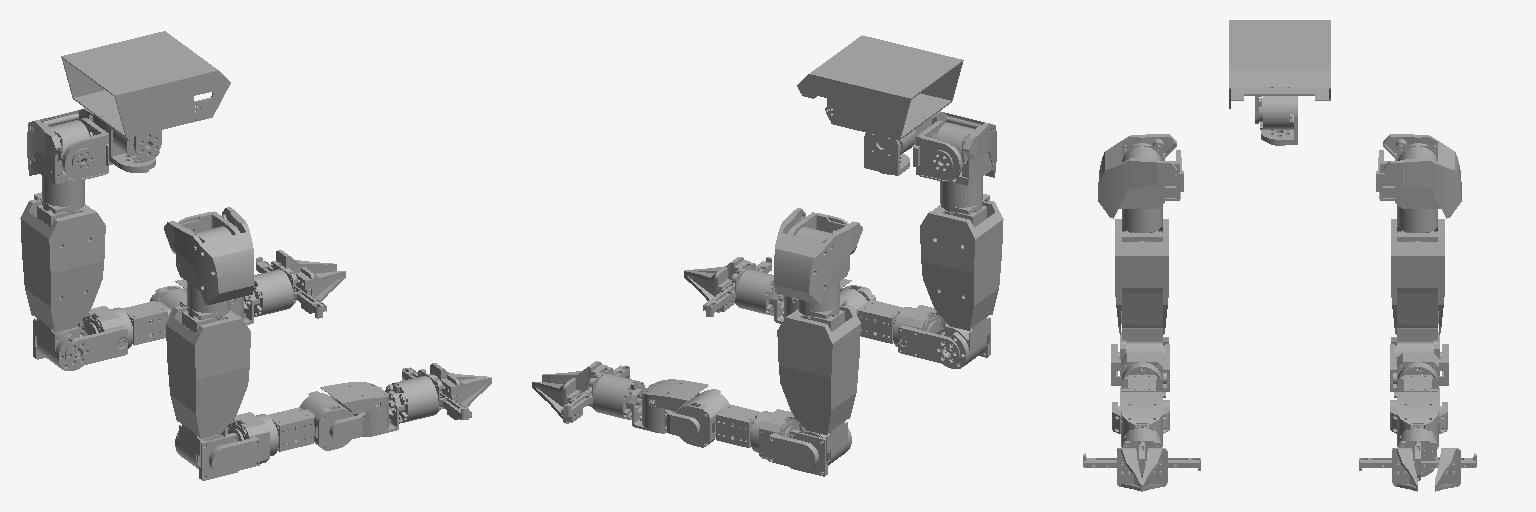
--- Facts derived from the render (not from the file) ---
The picture shows the robot from 3 angles, left to right: view 1: azimuth 30°, elevation 25°; view 2: azimuth 150°, elevation 25°; view 3: azimuth 270°, elevation 25°; orthographic projection.
Robot: 00-X7aaz — 29 links, 28 joints (17 revolute, 7 prismatic, 4 fixed); root link base_link; default pose: joints at zero except 1 at the middle of their limits (catch_joint_l_2 = 0.0254).
Visible links, largest first — view 1: head_link2_1, arm_r_link3_1, arm_l_link3_1, arm_r_link2_1, arm_l_link2_1, arm_r_link5_1, arm_r_link7_1, arm_r_link4_1, arm_l_link4_1, arm_r_link6_1, arm_l_link7_1, arm_l_link5_1 (+6 smaller); view 2: head_link2_1, arm_l_link3_1, arm_r_link3_1, arm_l_link2_1, arm_r_link2_1, arm_l_link5_1, arm_l_link7_1, arm_l_link4_1, arm_l_link6_1, arm_r_link4_1, arm_r_link7_1, arm_r_link1_1 (+6 smaller); view 3: head_link2_1, arm_r_link3_1, arm_l_link3_1, arm_r_link2_1, arm_l_link2_1, arm_l_link6_1, arm_r_link6_1, arm_l_link7_1, head_link1_1, arm_r_link4_1, arm_l_link4_1, arm_r_link7_1 (+8 smaller).
Link boxes in pixels (x1,y1,x2,y2): head_link2_1: (61,31,230,158); arm_r_link3_1: (166,306,250,480); arm_l_link3_1: (20,199,105,370); arm_r_link2_1: (164,207,253,319); arm_l_link2_1: (27,108,109,213); arm_r_link5_1: (268,391,353,451); arm_r_link7_1: (362,367,471,436); arm_r_link4_1: (209,412,278,474); arm_l_link4_1: (65,306,132,366); arm_r_link6_1: (320,382,388,441); arm_l_link7_1: (244,257,326,324); arm_l_link5_1: (122,286,186,345); head_link2_1: (797,35,963,140); arm_l_link3_1: (777,305,860,476); arm_r_link3_1: (920,200,1003,368); arm_l_link2_1: (774,208,862,318); arm_r_link2_1: (914,111,996,214); arm_l_link5_1: (676,389,760,447); arm_l_link7_1: (561,365,666,433); arm_l_link4_1: (750,409,818,469); arm_l_link6_1: (642,379,708,438); arm_r_link4_1: (893,305,959,364); arm_r_link7_1: (703,257,783,323); arm_r_link1_1: (913,121,962,181); head_link2_1: (1229,20,1330,123); arm_r_link3_1: (1115,219,1168,375); arm_l_link3_1: (1391,219,1444,375); arm_r_link2_1: (1098,134,1176,232); arm_l_link2_1: (1383,134,1461,232); arm_l_link6_1: (1390,392,1447,448); arm_r_link6_1: (1112,392,1169,447); arm_l_link7_1: (1359,426,1476,480); head_link1_1: (1260,96,1297,145); arm_r_link4_1: (1111,344,1169,391); arm_l_link4_1: (1390,344,1448,391); arm_r_link7_1: (1083,426,1200,477).
Size in the robot's own frame: 0.53 by 0.578 by 0.541 metres.
20 mesh visuals loaded from 25 distinct referenced files (20 binary STL); not drawn: 5 (reference not matched to a file when rendering).

The robot description file, URDF, robot "00-X7aaz":
<?xml version="1.0" ?>
<!-- =================================================================================== -->
<!-- |    This document was autogenerated by xacro from src/arx_urdf/arx_x7_description/model/xacro/x7.xacro | -->
<!-- |    EDITING THIS FILE BY HAND IS NOT RECOMMENDED                                 | -->
<!-- =================================================================================== -->
<robot name="00-X7aaz">
  <material name="silver">
    <color rgba="0.700 0.700 0.700 1.000"/>
  </material>
  
  <!-- New root link for world coordinate frame -->
  <link name="base_link"/>
  <link name="base_link_x"/>
  <link name="base_link_y"/>
  <link name="base_link_z"/>
  

  <joint name="base_x" type="prismatic">
    <origin rpy="0 0 0.0" xyz="0 0 0.0"/>
    <parent link="base_link"/>
    <child link="base_link_x"/>
    <axis xyz="1 0 0"/>
    <dynamics damping="10.0"/>
    <limit effort="87" lower="-5.0" upper="5.0" velocity="100.0"/>
  </joint>

<joint name="base_y" type="prismatic">
    <origin rpy="0 0 0.0" xyz="0 0 0.0"/>
    <parent link="base_link_x"/>
    <child link="base_link_y"/>
    <axis xyz="0 1 0"/>
    <dynamics damping="10.0"/>
    <limit effort="87" lower="-5.0" upper="5.0" velocity="100.0"/>
  </joint>

<joint name="base_z" type="revolute">
    <origin rpy="0 0 0.0" xyz="0 0 0.0"/>
    <parent link="base_link_y"/>
    <child link="base_link_z"/>
    <axis xyz="0 0 1"/>
    <dynamics damping="10.0"/>
    <limit effort="87" lower="-6.0" upper="6.0" velocity="100.0"/>
  </joint>

  <!-- Joint to rotate entire robot 180 degrees around x-axis -->
  <joint name="base_link_z_to_base_link0" type="fixed">
    <origin rpy="3.1415926 0 0" xyz="0 0 0"/>
    <parent link="base_link_z"/>
    <child link="base_link0"/>
  </joint>


  
  <link name="base_link0">
    <inertial>
      <origin rpy="0 0 0" xyz="-0.02788627568581226 -0.031293293601240654 -0.2137244378001211"/>
      <mass value="68.02485174331227"/>
      <inertia ixx="7.896909" ixy="0.008791" ixz="0.078962" iyy="8.057484" iyz="0.13147" izz="2.250946"/>
    </inertial>
    <visual>
      <origin rpy="3.5299186013195283e-15 1.5233538593592258e-29 -3.658014792536898e-15" xyz="-0.015256844136058456 -0.1573132267869905 0.09318884834810495"/>
      <geometry>
        <mesh filename="./meshes/base_link.stl" scale="0.001 0.001 0.001"/>
      </geometry>
      <material name="silver"/>
    </visual>
    <!-- <collision>
      <origin rpy="3.5299186013195283e-15 1.5233538593592258e-29 -3.658014792536898e-15" xyz="-0.015256844136058456 -0.1573132267869905 0.09318884834810495"/>
      <geometry>
        <mesh filename="./meshes/base_link.stl" scale="0.001 0.001 0.001"/>
      </geometry>
    </collision> -->
  </link>
  <link name="body_link2_1">
    <inertial>
      <origin rpy="0 0 0" xyz="0.05424383454957651 -0.06956807233610031 -0.48433314722625964"/>
      <mass value="24.603257212325776"/>
      <inertia ixx="0.156979" ixy="0.001689" ixz="0.016462" iyy="0.478969" iyz="-5.2e-05" izz="0.578528"/>
    </inertial>
    <visual>
      <origin rpy="3.5299186013195283e-15 1.5233538593592258e-29 -3.658014792536898e-15" xyz="-0.009171844136311141 -0.19232122678699098 0.323403945243197"/>
      <geometry>
        <mesh filename="./meshes/body_link2.stl" scale="0.001 0.001 0.001"/>
      </geometry>
      <material name="silver"/>
    </visual>
    <!-- <collision>
      <origin rpy="3.5299186013195283e-15 1.5233538593592258e-29 -3.658014792536898e-15" xyz="-0.009171844136311141 -0.19232122678699098 0.323403945243197"/>
      <geometry>
        <mesh filename="./meshes/body_link2.stl" scale="0.001 0.001 0.001"/>
      </geometry>
    </collision> -->
  </link>
  <link name="head_link1_1">
    <inertial>
      <origin rpy="0 0 0" xyz="3.2551294518179397e-07 -0.00038379909113506194 -0.04083809461872978"/>
      <mass value="1.1685832509612815"/>
      <inertia ixx="0.000744" ixy="-0.0" ixz="0.0" iyy="0.000728" iyz="2.6e-05" izz="0.000505"/>
    </inertial>
    <visual>
      <origin rpy="4.009121523980654e-15 1.6416829951423782e-29 -3.658014792536899e-15" xyz="-0.18967184413630755 -0.122540226786993 0.8525419264502125"/>
      <geometry>
        <mesh filename="./meshes/head_link1.stl" scale="0.001 0.001 0.001"/>
      </geometry>
      <material name="silver"/>
    </visual>
    <!-- <collision>
      <origin rpy="4.009121523980654e-15 1.6416829951423782e-29 -3.658014792536899e-15" xyz="-0.18967184413630755 -0.122540226786993 0.8525419264502125"/>
      <geometry>
        <mesh filename="./meshes/head_link1.stl" scale="0.001 0.001 0.001"/>
      </geometry>
    </collision> -->
  </link>
  <link name="head_link2_1">
    <inertial>
      <origin rpy="0 0 0" xyz="0.008891517012994815 -0.02138240004232105 -0.07362536398787023"/>
      <mass value="1.7036703045112362"/>
      <inertia ixx="0.006557" ixy="-5.7e-05" ixz="0.000471" iyy="0.005513" iyz="-0.000316" izz="0.008156"/>
    </inertial>
    <visual>
      <origin rpy="4.009121523980634e-15 -2.8679594705812487e-16 -3.6580147925368966e-15" xyz="-0.18967184413619376 -0.14754022678699194 0.9015419264501422"/>
      <geometry>
        <mesh filename="./meshes/head_link2.stl" scale="0.001 0.001 0.001"/>
      </geometry>
      <material name="silver"/>
    </visual>
    <!-- <collision>
      <origin rpy="4.009121523980634e-15 -2.8679594705812487e-16 -3.6580147925368966e-15" xyz="-0.18967184413619376 -0.14754022678699194 0.9015419264501422"/>
      <geometry>
        <mesh filename="./meshes/head_link2.stl" scale="0.001 0.001 0.001"/>
      </geometry>
    </collision> -->
  </link>
  <link name="arm_r_link1_1">
    <inertial>
      <origin rpy="0 0 0" xyz="0.022412358358475548 0.024326137468245163 -1.5165199018785103e-07"/>
      <mass value="0.37634949195895756"/>
      <inertia ixx="0.000339" ixy="-9.1e-05" ixz="-0.0" iyy="0.000241" iyz="-0.0" izz="0.00038"/>
    </inertial>
    <visual>
      <origin rpy="3.5299186013195283e-15 1.5233538593592258e-29 -3.658014792536898e-15" xyz="-0.2559596201375548 -0.39320934163869536 1.02378595447682"/>
      <geometry>
        <mesh filename="./meshes/arm_r_link1.stl" scale="0.001 0.001 0.001"/>
      </geometry>
      <material name="silver"/>
    </visual>
    <!-- <collision>
      <origin rpy="3.5299186013195283e-15 1.5233538593592258e-29 -3.658014792536898e-15" xyz="-0.2559596201375548 -0.39320934163869536 1.02378595447682"/>
      <geometry>
        <mesh filename="./meshes/arm_r_link1.stl" scale="0.001 0.001 0.001"/>
      </geometry>
    </collision> -->
  </link>
  <link name="arm_r_link2_1">
    <inertial>
      <origin rpy="0 0 0" xyz="-0.023480503352369397 0.005705988652512234 0.023495564095083576"/>
      <mass value="3.0700063054295343"/>
      <inertia ixx="0.005141" ixy="-0.00012" ixz="0.000234" iyy="0.005172" iyz="0.000119" izz="0.003088"/>
    </inertial>
    <visual>
      <origin rpy="2.0013386882728807e-15 1.5435735845241277e-29 -3.7690370949994146e-15" xyz="-0.21692184413630944 -0.3243212267869908 0.8074039452431967"/>
      <geometry>
        <mesh filename="./meshes/arm_r_link2.stl" scale="0.001 0.001 0.001"/>
      </geometry>
      <material name="silver"/>
    </visual>
    <!-- <collision>
      <origin rpy="2.0013386882728807e-15 1.5435735845241277e-29 -3.7690370949994146e-15" xyz="-0.21692184413630944 -0.3243212267869908 0.8074039452431967"/>
      <geometry>
        <mesh filename="./meshes/arm_r_link2.stl" scale="0.001 0.001 0.001"/>
      </geometry>
    </collision> -->
  </link>
  <link name="arm_r_link3_1">
    <inertial>
      <origin rpy="0 0 0" xyz="-0.0019947308643903927 -0.0006814522943049683 0.1368879719819266"/>
      <mass value="2.981863793105914"/>
      <inertia ixx="0.019419" ixy="-2.1e-05" ixz="0.00032" iyy="0.019484" iyz="0.000201" izz="0.003344"/>
    </inertial>
    <visual>
      <origin rpy="5.3223655638150194e-15 2.2204460492503312e-15 -3.769037094999406e-15" xyz="-0.18967184413630786 -0.3243212267869912 0.7209039452431967"/>
      <geometry>
        <mesh filename="./meshes/arm_r_link3.stl" scale="0.001 0.001 0.001"/>
      </geometry>
      <material name="silver"/>
    </visual>
    <!-- <collision>
      <origin rpy="5.3223655638150194e-15 2.2204460492503312e-15 -3.769037094999406e-15" xyz="-0.18967184413630786 -0.3243212267869912 0.7209039452431967"/>
      <geometry>
        <mesh filename="./meshes/arm_r_link3.stl" scale="0.001 0.001 0.001"/>
      </geometry>
    </collision> -->
  </link>
  <link name="arm_r_link4_1">
    <inertial>
      <origin rpy="0 0 0" xyz="0.06071898868694006 0.025423510668492383 6.854336575257136e-05"/>
      <mass value="1.3116533194741544"/>
      <inertia ixx="0.001041" ixy="-1.2e-05" ixz="-3e-06" iyy="0.001167" iyz="-0.0" izz="0.001616"/>
    </inertial>
    <visual>
      <origin rpy="5.322365563815022e-15 3.0767443469122387e-15 -1.1045018358990257e-15" xyz="-0.19049604503707818 -0.29517659560118414 0.5057543340961231"/>
      <geometry>
        <mesh filename="./meshes/arm_r_link4.stl" scale="0.001 0.001 0.001"/>
      </geometry>
      <material name="silver"/>
    </visual>
    <!-- <collision>
      <origin rpy="5.322365563815022e-15 3.0767443469122387e-15 -1.1045018358990257e-15" xyz="-0.19049604503707818 -0.29517659560118414 0.5057543340961231"/>
      <geometry>
        <mesh filename="./meshes/arm_r_link4.stl" scale="0.001 0.001 0.001"/>
      </geometry>
    </collision> -->
  </link>
  <link name="arm_r_link5_1">
    <inertial>
      <origin rpy="0 0 0" xyz="0.08339346922205759 -0.000980944991483601 -3.569533188296781e-05"/>
      <mass value="1.3925397947387612"/>
      <inertia ixx="0.000669" ixy="2.2e-05" ixz="-3e-06" iyy="0.001508" iyz="-2e-06" izz="0.001551"/>
    </inertial>
    <visual>
      <origin rpy="5.981285467309888e-15 3.076744346912257e-15 -6.933172715181096e-15" xyz="-0.2831718441363083 -0.3243212267869934 0.5044039452432006"/>
      <geometry>
        <mesh filename="./meshes/arm_r_link5.stl" scale="0.001 0.001 0.001"/>
      </geometry>
      <material name="silver"/>
    </visual>
    <!-- <collision>
      <origin rpy="5.981285467309888e-15 3.076744346912257e-15 -6.933172715181096e-15" xyz="-0.2831718441363083 -0.3243212267869934 0.5044039452432006"/>
      <geometry>
        <mesh filename="./meshes/arm_r_link5.stl" scale="0.001 0.001 0.001"/>
      </geometry>
    </collision> -->
  </link>
  <link name="arm_r_link6_1">
    <inertial>
      <origin rpy="0 0 0" xyz="0.056354003284026954 0.026892753329476937 -0.0015318308576494633"/>
      <mass value="1.192468848199776"/>
      <inertia ixx="0.000735" ixy="-3.4e-05" ixz="-4.5e-05" iyy="0.00096" iyz="1e-06" izz="0.001201"/>
    </inertial>
    <visual>
      <origin rpy="5.981285467309855e-15 6.875282229046669e-15 -3.491481338843086e-15" xyz="-0.378671844136308 -0.29707122678699516 0.5044039452432009"/>
      <geometry>
        <mesh filename="./meshes/arm_r_link6.stl" scale="0.001 0.001 0.001"/>
      </geometry>
      <material name="silver"/>
    </visual>
    <!-- <collision>
      <origin rpy="5.981285467309855e-15 6.875282229046669e-15 -3.491481338843086e-15" xyz="-0.378671844136308 -0.29707122678699516 0.5044039452432009"/>
      <geometry>
        <mesh filename="./meshes/arm_r_link6.stl" scale="0.001 0.001 0.001"/>
      </geometry>
    </collision> -->
  </link>
  <link name="arm_r_link7_1">
    <inertial>
      <origin rpy="0 0 0" xyz="0.07446127977197714 -8.750794004427909e-05 -0.020217378023051347"/>
      <mass value="1.238313218461711"/>
      <inertia ixx="0.00087" ixy="3e-06" ixz="0.000152" iyy="0.001078" iyz="5e-06" izz="0.001374"/>
    </inertial>
    <visual>
      <origin rpy="6.102756063125741e-15 -1.6653345369375926e-16 -3.4914813388431282e-15" xyz="-0.44467184413630756 -0.3243212267869946 0.4824039452432018"/>
      <geometry>
        <mesh filename="./meshes/arm_r_link7.stl" scale="0.001 0.001 0.001"/>
      </geometry>
      <material name="silver"/>
    </visual>
    <!-- <collision>
      <origin rpy="6.102756063125741e-15 -1.6653345369375926e-16 -3.4914813388431282e-15" xyz="-0.44467184413630756 -0.3243212267869946 0.4824039452432018"/>
      <geometry>
        <mesh filename="./meshes/arm_r_link7.stl" scale="0.001 0.001 0.001"/>
      </geometry>
    </collision> -->
  </link>
  <link name="arm_l_link1_1">
    <inertial>
      <origin rpy="0 0 0" xyz="0.022412358358537027 -0.02432567247619527 -1.5165202593703242e-07"/>
      <mass value="0.3763494919589559"/>
      <inertia ixx="0.000339" ixy="9.1e-05" ixz="-0.0" iyy="0.000241" iyz="0.0" izz="0.00038"/>
    </inertial>
    <visual>
      <origin rpy="-3.1415926535897896 3.993674239980411e-16 -3.3249478851493492e-15" xyz="-0.2559596201374901 0.3932098066307419 1.0237859544767858"/>
      <geometry>
        <mesh filename="./meshes/arm_l_link1.stl" scale="0.001 0.001 0.001"/>
      </geometry>
      <material name="silver"/>
    </visual>
    <!-- <collision>
      <origin rpy="-3.1415926535897896 3.993674239980411e-16 -3.3249478851493492e-15" xyz="-0.2559596201374901 0.3932098066307419 1.0237859544767858"/>
      <geometry>
        <mesh filename="./meshes/arm_l_link1.stl" scale="0.001 0.001 0.001"/>
      </geometry>
    </collision> -->
  </link>
  <link name="arm_l_link2_1">
    <inertial>
      <origin rpy="0 0 0" xyz="-0.023480503352307003 -0.00570552366046273 0.02349556417614007"/>
      <mass value="3.0700063054295326"/>
      <inertia ixx="0.005141" ixy="0.00012" ixz="0.000234" iyy="0.005172" iyz="-0.000119" izz="0.003088"/>
    </inertial>
    <visual>
      <origin rpy="-3.1415926535897873 3.993674239980373e-16 -2.8253475240680284e-15" xyz="-0.21692184413624516 0.32432169177903564 0.807403945243161"/>
      <geometry>
        <mesh filename="./meshes/arm_l_link2.stl" scale="0.001 0.001 0.001"/>
      </geometry>
      <material name="silver"/>
    </visual>
    <!-- <collision>
      <origin rpy="-3.1415926535897873 3.993674239980373e-16 -2.8253475240680284e-15" xyz="-0.21692184413624516 0.32432169177903564 0.807403945243161"/>
      <geometry>
        <mesh filename="./meshes/arm_l_link2.stl" scale="0.001 0.001 0.001"/>
      </geometry>
    </collision> -->
  </link>
  <link name="arm_l_link3_1">
    <inertial>
      <origin rpy="0 0 0" xyz="-0.0019947278011221703 0.0006819209913284108 0.13688794355607903"/>
      <mass value="2.9818626930617"/>
      <inertia ixx="0.019419" ixy="2.1e-05" ixz="0.00032" iyy="0.019484" iyz="-0.000201" izz="0.003344"/>
    </inertial>
    <visual>
      <origin rpy="-3.141592653589792 2.886579864025421e-15 -2.8253475240680225e-15" xyz="-0.18967184413624447 0.3243216917790366 0.720903945243162"/>
      <geometry>
        <mesh filename="./meshes/arm_l_link3.stl" scale="0.001 0.001 0.001"/>
      </geometry>
      <material name="silver"/>
    </visual>
    <!-- <collision>
      <origin rpy="-3.141592653589792 2.886579864025421e-15 -2.8253475240680225e-15" xyz="-0.18967184413624447 0.3243216917790366 0.720903945243162"/>
      <geometry>
        <mesh filename="./meshes/arm_l_link3.stl" scale="0.001 0.001 0.001"/>
      </geometry>
    </collision> -->
  </link>
  <link name="arm_l_link4_1">
    <inertial>
      <origin rpy="0 0 0" xyz="0.06071898868700076 -0.025423045676445905 6.854336571421316e-05"/>
      <mass value="1.3116533194741542"/>
      <inertia ixx="0.001041" ixy="1.2e-05" ixz="-3e-06" iyy="0.001167" iyz="0.0" izz="0.001616"/>
    </inertial>
    <visual>
      <origin rpy="-3.141592653589792 2.984115399562549e-15 -5.767438539324695e-15" xyz="-0.19049604503701328 0.2951770605932289 0.5057543340960878"/>
      <geometry>
        <mesh filename="./meshes/arm_l_link4.stl" scale="0.001 0.001 0.001"/>
      </geometry>
      <material name="silver"/>
    </visual>
    <!-- <collision>
      <origin rpy="-3.141592653589792 2.984115399562549e-15 -5.767438539324695e-15" xyz="-0.19049604503701328 0.2951770605932289 0.5057543340960878"/>
      <geometry>
        <mesh filename="./meshes/arm_l_link4.stl" scale="0.001 0.001 0.001"/>
      </geometry>
    </collision> -->
  </link>
  <link name="arm_l_link5_1">
    <inertial>
      <origin rpy="0 0 0" xyz="0.08339346922211793 0.0009814099835294132 -3.5695331919993745e-05"/>
      <mass value="1.392539794738761"/>
      <inertia ixx="0.000669" ixy="-2.2e-05" ixz="-3e-06" iyy="0.001508" iyz="2e-06" izz="0.001551"/>
    </inertial>
    <visual>
      <origin rpy="-3.141592653589792 2.9841153995625207e-15 6.123233995738446e-17" xyz="-0.2831718441362437 0.3243216917790372 0.5044039452431649"/>
      <geometry>
        <mesh filename="./meshes/arm_l_link5.stl" scale="0.001 0.001 0.001"/>
      </geometry>
      <material name="silver"/>
    </visual>
    <!-- <collision>
      <origin rpy="-3.141592653589792 2.9841153995625207e-15 6.123233995738446e-17" xyz="-0.2831718441362437 0.3243216917790372 0.5044039452431649"/>
      <geometry>
        <mesh filename="./meshes/arm_l_link5.stl" scale="0.001 0.001 0.001"/>
      </geometry>
    </collision> -->  
  </link>
  <link name="arm_l_link6_1">
    <inertial>
      <origin rpy="0 0 0" xyz="0.056354003284060594 -0.026892288120110075 -0.0015318308576687256"/>
      <mass value="1.1924688481985686"/>
      <inertia ixx="0.000735" ixy="3.4e-05" ixz="-4.5e-05" iyy="0.00096" iyz="-1e-06" izz="0.001201"/>
    </inertial>
    <visual>
      <origin rpy="-3.1415926535897896 7.513660468206103e-15 6.123233995739475e-17" xyz="-0.3786718441362456 0.29707169177903814 0.5044039452431677"/>
      <geometry>
        <mesh filename="./meshes/arm_l_link6.stl" scale="0.001 0.001 0.001"/>
      </geometry>
      <material name="silver"/>
    </visual>
    <!-- <collision>
      <origin rpy="-3.1415926535897896 7.513660468206103e-15 6.123233995739475e-17" xyz="-0.3786718441362456 0.29707169177903814 0.5044039452431677"/>
      <geometry>
        <mesh filename="./meshes/arm_l_link6.stl" scale="0.001 0.001 0.001"/>
      </geometry>
    </collision> -->
  </link>
  <link name="arm_l_link7_1">
    <inertial>
      <origin rpy="0 0 0" xyz="0.07446127977687811 8.795383301993254e-05 -0.020217378023171473"/>
      <mass value="1.2383132186826822"/>
      <inertia ixx="0.00087" ixy="-3e-06" ixz="0.000152" iyy="0.001078" iyz="-5e-06" izz="0.001374"/>
    </inertial>
    <visual>
      <origin rpy="-3.1415926535897913 -1.9428902930939843e-16 6.12323399573745e-17" xyz="-0.44467184413624505 0.32432169177903625 0.482403945243167"/>
      <geometry>
        <mesh filename="./meshes/arm_l_link7.stl" scale="0.001 0.001 0.001"/>
      </geometry>
      <material name="silver"/>
    </visual>
    <!-- <collision>
      <origin rpy="-3.1415926535897913 -1.9428902930939843e-16 6.12323399573745e-17" xyz="-0.44467184413624505 0.32432169177903625 0.482403945243167"/>
      <geometry>
        <mesh filename="./meshes/arm_l_link7.stl" scale="0.001 0.001 0.001"/>
      </geometry>
    </collision> -->
  </link>
  <link name="wheel_2">
    <inertial>
      <origin rpy="0 0 0" xyz="0.0013051432894030657 0.0022591910259763814 -4.439392070759718e-07"/>
      <mass value="4.248031072877931"/>
      <inertia ixx="0.008031" ixy="0.002428" ixz="0.0" iyy="0.010834" iyz="-0.0" izz="0.006629"/>
    </inertial>
    <visual>
      <origin rpy="0 0 0" xyz="-0.175463 -0.280847 0.026811"/>
      <geometry>
        <mesh filename="./meshes/wheel_2.stl" scale="0.001 0.001 0.001"/>
      </geometry>
      <material name="silver"/>
    </visual>
    <!-- <collision>
      <origin rpy="0 0 0" xyz="-0.175463 -0.280847 0.026811"/>
      <geometry>
        <mesh filename="./meshes/wheel_2.stl" scale="0.001 0.001 0.001"/>
      </geometry>
    </collision> -->
  </link>
  <link name="wheel_1">
    <inertial>
      <origin rpy="0 0 0" xyz="-0.002608882124192413 3.476519027864611e-07 -4.439392085470173e-07"/>
      <mass value="4.248031072877931"/>
      <inertia ixx="0.012235" ixy="0.0" ixz="0.0" iyy="0.006629" iyz="0.0" izz="0.006629"/>
    </inertial>
    <visual>
      <origin rpy="0 0 0" xyz="0.371585 0.034992 0.026811"/>
      <geometry>
        <mesh filename="./meshes/wheel_1.stl" scale="0.001 0.001 0.001"/>
      </geometry>
      <material name="silver"/>
    </visual>
    <!-- <collision>
      <origin rpy="0 0 0" xyz="0.371585 0.034992 0.026811"/>
      <geometry>
        <mesh filename="./meshes/wheel_1.stl" scale="0.001 0.001 0.001"/>
      </geometry>
    </collision> -->
  </link>
  <link name="wheel_3">
    <inertial>
      <origin rpy="0 0 0" xyz="0.0013049438335925867 -0.002259841189761247 -4.4393920997642944e-07"/>
      <mass value="4.248031072877931"/>
      <inertia ixx="0.008031" ixy="-0.002428" ixz="-0.0" iyy="0.010834" iyz="-0.0" izz="0.006629"/>
    </inertial>
    <visual>
      <origin rpy="0 0 0" xyz="-0.175463 0.35083 0.026811"/>
      <geometry>
        <mesh filename="./meshes/wheel_3.stl" scale="0.001 0.001 0.001"/>
      </geometry>
      <material name="silver"/>
    </visual>
    <!-- <collision>
      <origin rpy="0 0 0" xyz="-0.175463 0.35083 0.026811"/>
      <geometry>
        <mesh filename="./meshes/wheel_3.stl" scale="0.001 0.001 0.001"/>
      </geometry>
    </collision> -->
  </link>
  <link name="catch_1_1">
    <inertial>
      <origin rpy="0 0 0" xyz="0.016354221810850333 -0.06789088940201943 0.003427702773795116"/>
      <mass value="0.22819516637084067"/>
      <inertia ixx="7.9e-05" ixy="2.8e-05" ixz="-1.3e-05" iyy="0.00014" iyz="5e-06" izz="0.000104"/>
    </inertial>
    <visual>
      <origin rpy="0 0 0" xyz="-0.547985 -0.25201 0.415311"/>
      <geometry>
        <mesh filename="./meshes/catch_1_1.stl" scale="0.001 0.001 0.001"/>
      </geometry>
      <material name="silver"/>
    </visual>
    <!-- <collision>
      <origin rpy="0 0 0" xyz="-0.547985 -0.25201 0.415311"/>
      <geometry>
        <mesh filename="./meshes/catch_1_1.stl" scale="0.001 0.001 0.001"/>
      </geometry>
    </collision> -->
  </link>
  <link name="catch_2_1">
    <inertial>
      <origin rpy="0 0 0" xyz="0.018360095385717035 0.06860801547457226 0.007749721032955903"/>
      <mass value="0.20305384054458703"/>
      <inertia ixx="7.3e-05" ixy="-2.6e-05" ixz="5e-06" iyy="0.00013" iyz="1e-06" izz="9.4e-05"/>
    </inertial>
    <visual>
      <origin rpy="0 0 0" xyz="-0.547985 -0.08201 0.415311"/>
      <geometry>
        <mesh filename="./meshes/catch_2_1.stl" scale="0.001 0.001 0.001"/>
      </geometry>
      <material name="silver"/>
    </visual>
    <!-- <collision>
      <origin rpy="0 0 0" xyz="-0.547985 -0.08201 0.415311"/>
      <geometry>
        <mesh filename="./meshes/catch_2_1.stl" scale="0.001 0.001 0.001"/>
      </geometry>
    </collision> -->
  </link>
  <link name="catch_1_2">
    <inertial>
      <origin rpy="0 0 0" xyz="0.016354221810908398 -0.0678905382585942 0.0034277027737359966"/>
      <mass value="0.22819516637084067"/>
      <inertia ixx="7.9e-05" ixy="2.8e-05" ixz="-1.3e-05" iyy="0.00014" iyz="5e-06" izz="0.000104"/>
    </inertial>
    <visual>
      <origin rpy="0 0 0" xyz="-0.547985 0.151994 0.415311"/>
      <geometry>
        <mesh filename="./meshes/catch_1_2.stl" scale="0.001 0.001 0.001"/>
      </geometry>
      <material name="silver"/>
    </visual>
    <!-- <collision>
      <origin rpy="0 0 0" xyz="-0.547985 0.151994 0.415311"/>
      <geometry>
        <mesh filename="./meshes/catch_1_2.stl" scale="0.001 0.001 0.001"/>
      </geometry>
    </collision> -->
  </link>
  <link name="catch_2_2">
    <inertial>
      <origin rpy="0 0 0" xyz="0.018360095385775987 0.0686083666179989 0.007749721032946355"/>
      <mass value="0.20305384054458703"/>
      <inertia ixx="7.3e-05" ixy="-2.6e-05" ixz="5e-06" iyy="0.00013" iyz="1e-06" izz="9.4e-05"/>
    </inertial>
    <visual>
      <origin rpy="0 0 0" xyz="-0.547985 0.321994 0.415311"/>
      <geometry>
        <mesh filename="./meshes/catch_2_2.stl" scale="0.001 0.001 0.001"/>
      </geometry>
      <material name="silver"/>
    </visual>
    <!-- <collision>
      <origin rpy="0 0 0" xyz="-0.547985 0.321994 0.415311"/>
      <geometry>
        <mesh filename="./meshes/catch_2_2.stl" scale="0.001 0.001 0.001"/>
      </geometry>
    </collision> -->  
  </link>
  <joint name="body_joint_1" type="prismatic">
    <origin rpy="0 0 0" xyz="-0.006085 0.035008 -0.529811"/>
    <parent link="base_link0"/>
    <child link="body_link2_1"/>
    <axis xyz="0.0 -0.0 1.0"/>
    <limit effort="100" lower="0.0" upper="0.72" velocity="100"/>
  </joint>
  <joint name="head_joint_1" type="revolute">
    <origin rpy="0 0 0" xyz="0.1805 -0.069781 -0.532"/>
    <parent link="body_link2_1"/>
    <child link="head_link1_1"/>
    <axis xyz="0.0 -0.0 1.0"/>
    <limit effort="100" lower="-1.570796" upper="1.570796" velocity="100"/>
  </joint>
  <joint name="head_joint_2" type="revolute">
    <origin rpy="0 0 0" xyz="0.0 0.025 -0.049"/>
    <parent link="head_link1_1"/>
    <child link="head_link2_1"/>
    <axis xyz="0.0 1.0 0.0"/>
    <limit effort="100" lower="-0.785398" upper="0.785398" velocity="100"/>
  </joint>
  <joint name="arm_joint_r_1" type="revolute">
    <origin rpy="0 0 0" xyz="0.1805 0.0735 -0.484"/>
    <parent link="body_link2_1"/>
    <child link="arm_r_link1_1"/>
    <axis xyz="0.0 1.0 0.0"/>
    <limit effort="100" lower="-0.523599" upper="3.141593" velocity="100"/>
  </joint>
  <joint name="arm_joint_r_2" type="revolute">
    <origin rpy="0 0 0" xyz="0.02725 0.0585 0.0"/>
    <parent link="arm_r_link1_1"/>
    <child link="arm_r_link2_1"/>
    <axis xyz="1.0 -0.0 -0.0"/>
    <limit effort="100" lower="-1.570796" upper="0.436332" velocity="100"/>
  </joint>
  <joint name="arm_joint_r_3" type="revolute">
    <origin rpy="0 0 0" xyz="-0.02725 0.0 0.0865"/>
    <parent link="arm_r_link2_1"/>
    <child link="arm_r_link3_1"/>
    <axis xyz="0.0 -0.0 1.0"/>
    <limit effort="100" lower="-1.570796" upper="1.570796" velocity="100"/>
  </joint>
  <joint name="arm_joint_r_4" type="revolute">
    <origin rpy="0 0 0" xyz="0.0 -0.02725 0.2165"/>
    <parent link="arm_r_link3_1"/>
    <child link="arm_r_link4_1"/>
    <axis xyz="0.0 1.0 0.0"/>
    <limit effort="100" lower="-1.570796" upper="0.785398" velocity="100"/>
  </joint>
  <joint name="arm_joint_r_5" type="revolute">
    <origin rpy="0 0 0" xyz="0.0935 0.02725 0.0"/>
    <parent link="arm_r_link4_1"/>
    <child link="arm_r_link5_1"/>
    <axis xyz="1.0 -0.0 -0.0"/>
    <limit effort="100" lower="-2.792527" upper="2.792527" velocity="100"/>
  </joint>
  <joint name="arm_joint_r_6" type="revolute">
    <origin rpy="0 0 0" xyz="0.0955 -0.02725 0.0"/>
    <parent link="arm_r_link5_1"/>
    <child link="arm_r_link6_1"/>
    <axis xyz="-0.0 1.0 0.0"/>
    <limit effort="100" lower="-1.570796" upper="0.785398" velocity="100"/>
  </joint>
  <joint name="arm_joint_r_7" type="revolute">
    <origin rpy="0 0 0" xyz="0.066 0.02725 0.022"/>
    <parent link="arm_r_link6_1"/>
    <child link="arm_r_link7_1"/>
    <axis xyz="0.0 -0.0 1.0"/>
    <limit effort="100" lower="-1.570796" upper="1.570796" velocity="100"/>
  </joint>
  <joint name="arm_joint_l_1" type="revolute">
    <origin rpy="0 0 0" xyz="0.1805 -0.2135 -0.484"/>
    <parent link="body_link2_1"/>
    <child link="arm_l_link1_1"/>
    <axis xyz="0.0 1.0 0.0"/>
    <limit effort="100" lower="-3.141593" upper="0.523599" velocity="100"/>
  </joint>
  <joint name="arm_joint_l_2" type="revolute">
    <origin rpy="0 0 0" xyz="0.02725 -0.0585 0.0"/>
    <parent link="arm_l_link1_1"/>
    <child link="arm_l_link2_1"/>
    <axis xyz="1.0 -0.0 -0.0"/>
    <limit effort="100" lower="-0.436332" upper="1.570796" velocity="100"/>
  </joint>
  <joint name="arm_joint_l_3" type="revolute">
    <origin rpy="0 0 0" xyz="-0.02725 0.0 0.0865"/>
    <parent link="arm_l_link2_1"/>
    <child link="arm_l_link3_1"/>
    <axis xyz="-0.0 0.0 -1.0"/>
    <limit effort="100" lower="-1.570796" upper="1.570796" velocity="100"/>
  </joint>
  <joint name="arm_joint_l_4" type="revolute">
    <origin rpy="0 0 0" xyz="0.0 0.02725 0.2165"/>
    <parent link="arm_l_link3_1"/>
    <child link="arm_l_link4_1"/>
    <axis xyz="-0.0 -1.0 -0.0"/>
    <limit effort="100" lower="-0.785398" upper="1.570796" velocity="100"/>
  </joint>
  <joint name="arm_joint_l_5" type="revolute">
    <origin rpy="0 0 0" xyz="0.0935 -0.02725 0.0"/>
    <parent link="arm_l_link4_1"/>
    <child link="arm_l_link5_1"/>
    <axis xyz="1.0 -0.0 -0.0"/>
    <limit effort="100" lower="-2.792527" upper="2.792527" velocity="100"/>
  </joint>
  <joint name="arm_joint_l_6" type="revolute">
    <origin rpy="0 0 0" xyz="0.0955 0.02725 0.0"/>
    <parent link="arm_l_link5_1"/>
    <child link="arm_l_link6_1"/>
    <axis xyz="-0.0 -1.0 -0.0"/>
    <limit effort="100" lower="-0.785398" upper="1.570796" velocity="100"/>
  </joint>
  <joint name="arm_joint_l_7" type="revolute">
    <origin rpy="0 0 0" xyz="0.066 -0.02725 0.022"/>
    <parent link="arm_l_link6_1"/>
    <child link="arm_l_link7_1"/>
    <axis xyz="-0.0 0.0 -1.0"/>
    <limit effort="100" lower="-1.570796" upper="1.570796" velocity="100"/>
  </joint>
  <joint name="wheel2" type="fixed">
    <origin rpy="0 0 0" xyz="0.175463 0.280847 -0.026811"/>
    <parent link="base_link0"/>
    <child link="wheel_2"/>
    <axis xyz="0.5 0.866025 0.0"/>
  </joint>
  <joint name="wheel1" type="fixed">
    <origin rpy="0 0 0" xyz="-0.371585 -0.034992 -0.026811"/>
    <parent link="base_link0"/>
    <child link="wheel_1"/>
    <axis xyz="-1.0 0.0 0.0"/>
  </joint>
  <joint name="wheel3" type="fixed">
    <origin rpy="0 0 0" xyz="0.175463 -0.35083 -0.026811"/>
    <parent link="base_link0"/>
    <child link="wheel_3"/>
    <axis xyz="0.5 -0.866025 -0.0"/>
  </joint>
  <joint name="catch_joint_r_1" type="prismatic">
    <origin rpy="0 0 0" xyz="0.11857 0.085002 -0.0265"/>
    <parent link="arm_r_link7_1"/>
    <child link="catch_1_1"/>
    <axis xyz="0.0 1.0 0.0"/>
    <limit effort="100" lower="-0.003172" upper="0.04765" velocity="100"/>
  </joint>
  <joint name="catch_joint_r_2" type="prismatic">
    <origin rpy="0 0 0" xyz="0.11857 -0.084998 -0.0265"/>
    <parent link="arm_r_link7_1"/>
    <child link="catch_2_1"/>
    <axis xyz="0.0 1.0 0.0"/>
    <limit effort="100" lower="-0.04765" upper="0.003172" velocity="100"/>
  </joint>
  <joint name="catch_joint_l_1" type="prismatic">
    <origin rpy="0 0 0" xyz="0.11857 0.084998 -0.0265"/>
    <parent link="arm_l_link7_1"/>
    <child link="catch_1_2"/>
    <axis xyz="0.0 -1.0 -0.0"/>
    <limit effort="100" lower="-0.04765" upper="0.003172" velocity="100"/>
  </joint>
  <joint name="catch_joint_l_2" type="prismatic">
    <origin rpy="0 0 0" xyz="0.11857 -0.085002 -0.0265"/>
    <parent link="arm_l_link7_1"/>
    <child link="catch_2_2"/>
    <axis xyz="0.0 -1.0 -0.0"/>
    <limit effort="100" lower="0.003172" upper="0.04765" velocity="100"/>
  </joint>
</robot>
